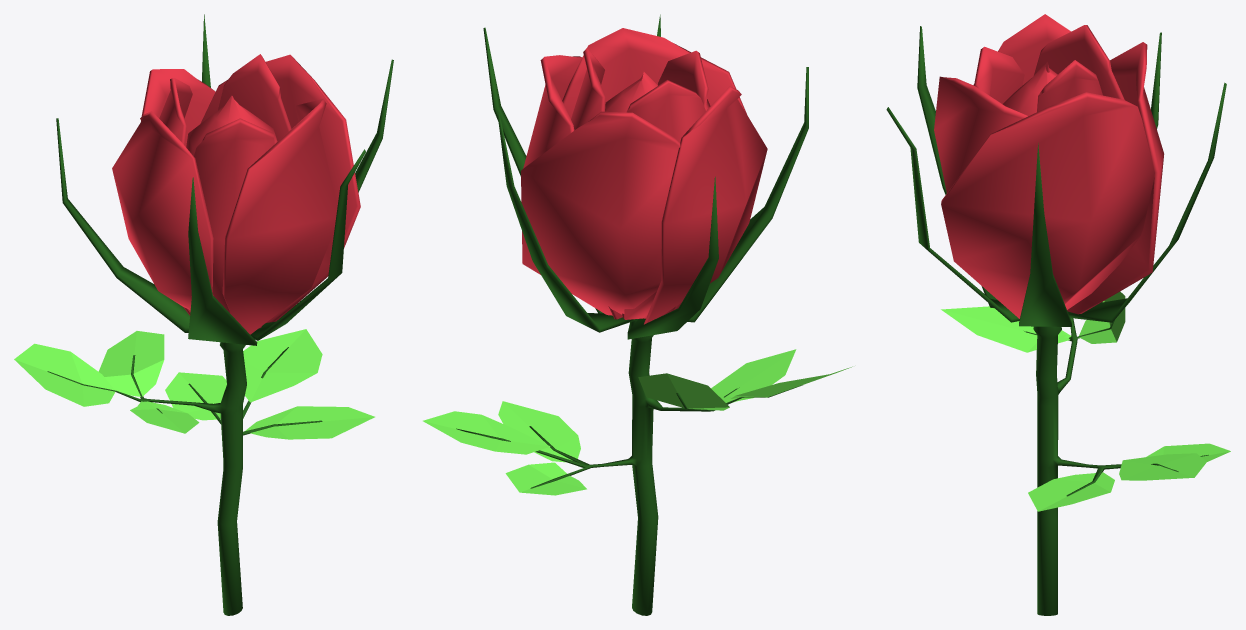
File: rose 2.fbx
The picture shows the model from 3 angles, left to right: view 1: azimuth 30°, elevation 25°; view 2: azimuth 150°, elevation 25°; view 3: azimuth 270°, elevation 25°; orthographic projection. The views are drawn at different scales.
Parts seen in each view (by area): view 1: Cylinder; view 2: Cylinder; view 3: Cylinder.
Part boxes in pixels (<box>): Cylinder: <box>14,14,393,615</box>; Cylinder: <box>423,14,852,615</box>; Cylinder: <box>886,14,1230,615</box>.
Size of the model in its own units: 21.32 by 30.64 by 16.57.
